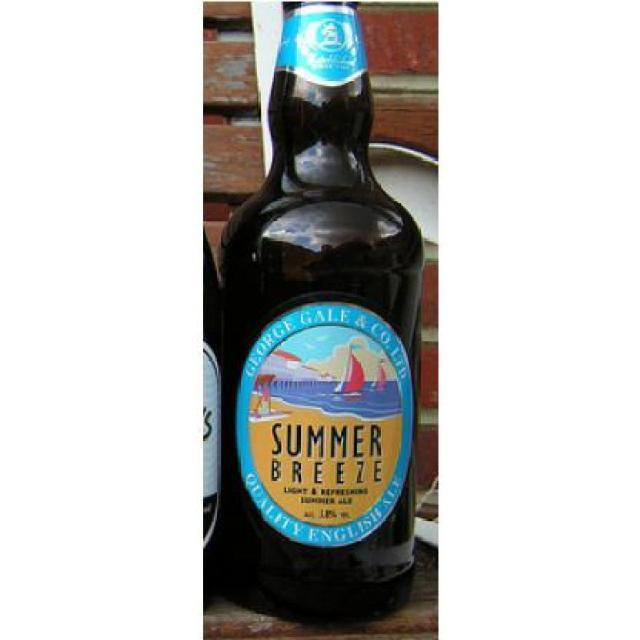BotolKaca: (213, 1, 426, 622)
